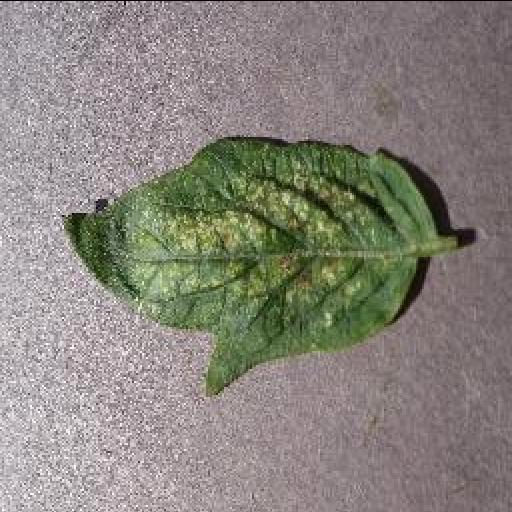disease_tomato: (58, 138, 434, 398)
